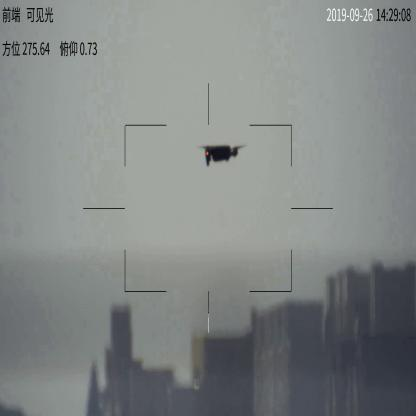uav: (186, 141, 239, 164)
